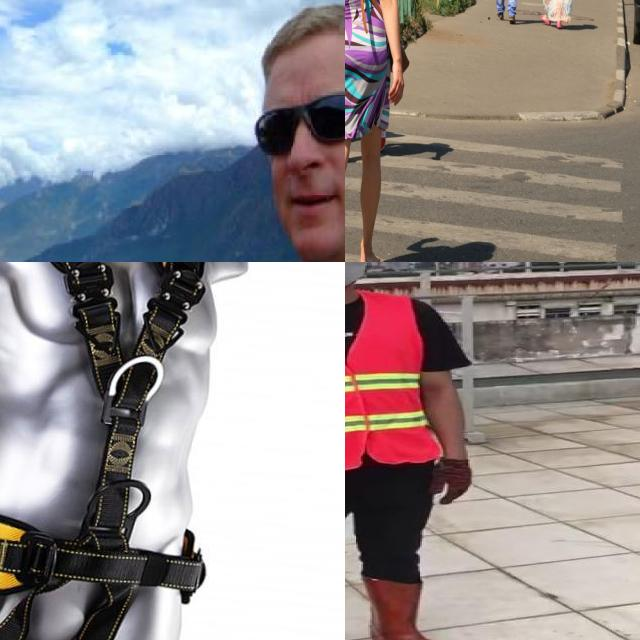Barefoots: (359, 249, 380, 262)
Harness: (0, 262, 206, 640)
boots: (361, 574, 457, 640)
face_nomask: (258, 99, 345, 231)
glasses: (252, 91, 345, 159)
head_nohelmet: (255, 0, 345, 76)
person: (345, 262, 480, 640), (242, 0, 345, 262)
vest: (345, 296, 434, 468)
